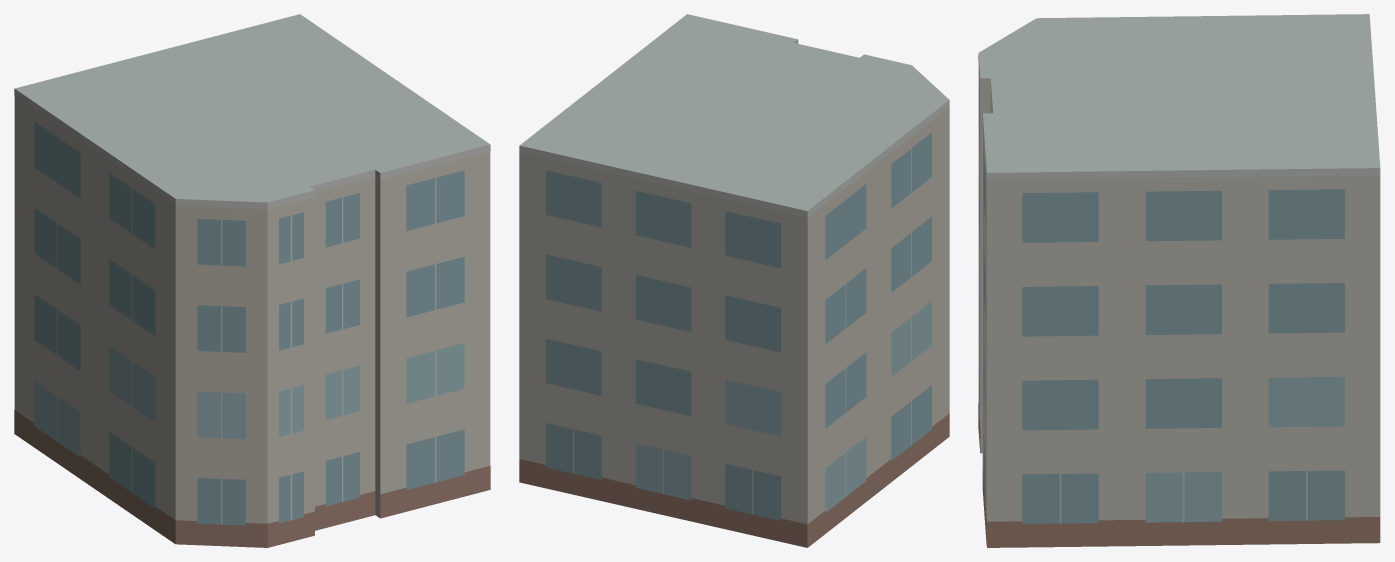
The model's file is survey-upis-32622458.glb.
The picture shows the model from 3 angles, left to right: view 1: azimuth 30°, elevation 25°; view 2: azimuth 150°, elevation 25°; view 3: azimuth 270°, elevation 25°; orthographic projection. The views are drawn at different scales.
Parts seen in each view (by area): view 1: survey-upis-32622458.tmp; view 2: survey-upis-32622458.tmp; view 3: survey-upis-32622458.tmp.
Part boxes in pixels (<box>): survey-upis-32622458.tmp: <box>14,14,490,547</box>; survey-upis-32622458.tmp: <box>519,14,949,547</box>; survey-upis-32622458.tmp: <box>978,14,1380,547</box>.
Size of the model in its own units: 10.91 by 12 by 11.66.
